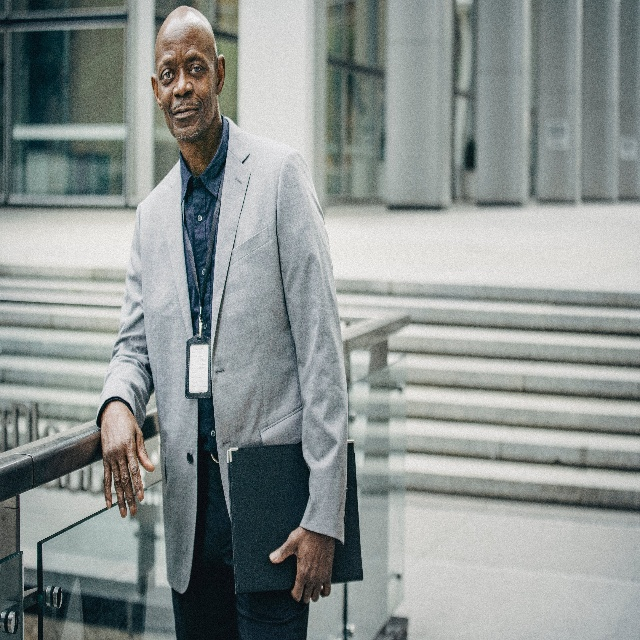Sin_guantes: (98, 401, 155, 517), (269, 524, 335, 604)
